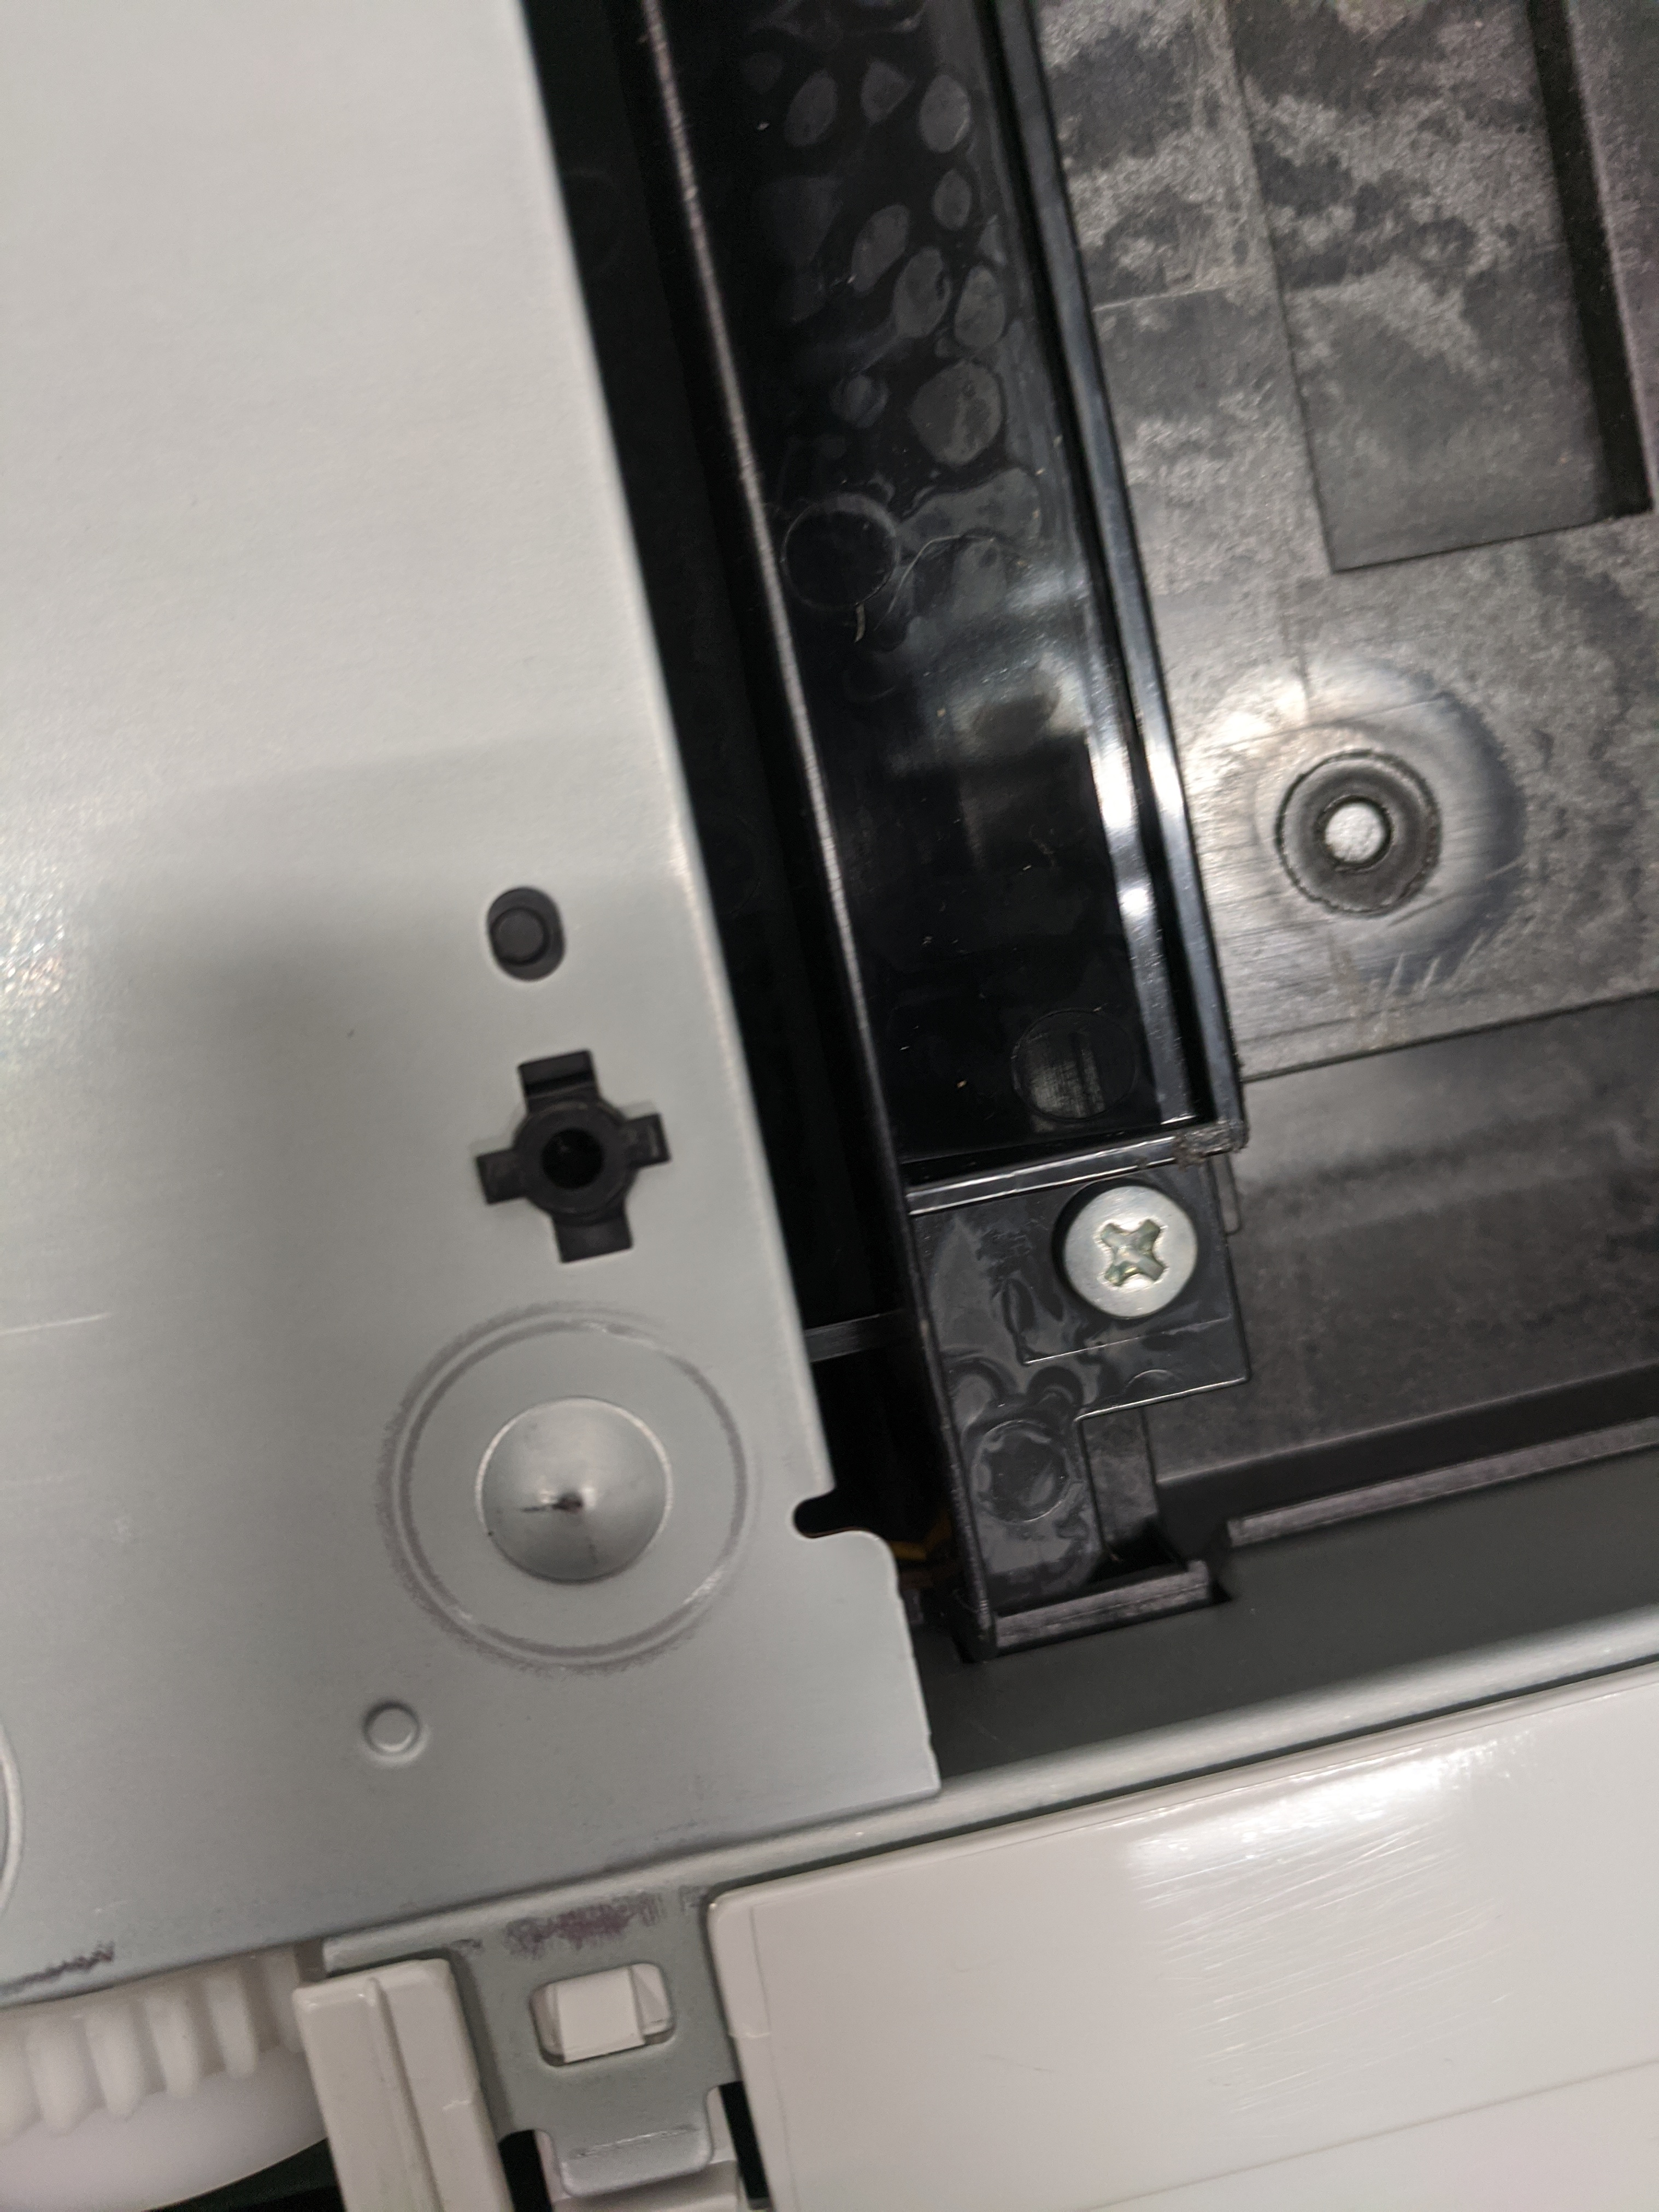cross_recessed_screw: (1058, 1169, 1213, 1318)
